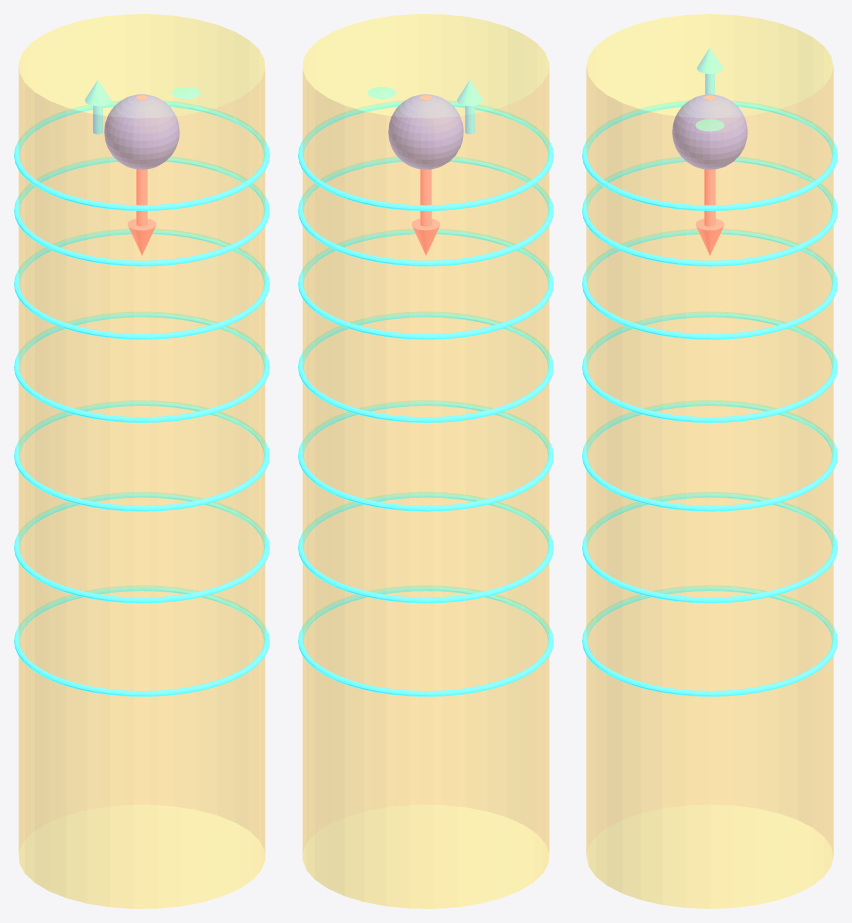
The model's file is bai4_chuyen_dong_trong_chat_luu.glb.
3 views of the same model, side by side, from view 1: azimuth 30°, elevation 25°; view 2: azimuth 150°, elevation 25°; view 3: azimuth 270°, elevation 25° (orthographic).
Parts seen in each view (by area): view 1: CotDauNhot, VienBiThep, Hình Xuyến.003, Hình Xuyến.004, Hình Xuyến.006, Hình Xuyến.005, Hình Xuyến.002, Hình Xuyến.001, Hình Xuyến, Vec_P_Bi, Vec_FA_Bi; view 2: CotDauNhot, VienBiThep, Hình Xuyến.003, Hình Xuyến.004, Hình Xuyến.006, Hình Xuyến.005, Hình Xuyến.002, Hình Xuyến.001, Hình Xuyến, Vec_P_Bi, Vec_FA_Bi; view 3: CotDauNhot, VienBiThep, Hình Xuyến.003, Hình Xuyến.004, Hình Xuyến.006, Hình Xuyến.005, Hình Xuyến.002, Hình Xuyến, Hình Xuyến.001, Vec_P_Bi, Vec_FA_Bi.
Boxes of the visible parts, box(x1,y1,x2,y2) form: CotDauNhot: box(18, 14, 265, 908); VienBiThep: box(104, 94, 179, 169); Hình Xuyến.003: box(14, 311, 269, 422); Hình Xuyến.004: box(14, 400, 269, 511); Hình Xuyến.006: box(14, 585, 269, 696); Hình Xuyến.005: box(14, 492, 269, 603); Hình Xuyến.002: box(14, 228, 269, 339); Hình Xuyến.001: box(14, 156, 269, 266); Hình Xuyến: box(14, 100, 269, 210); Vec_P_Bi: box(127, 95, 156, 255); Vec_FA_Bi: box(85, 80, 110, 134); CotDauNhot: box(302, 14, 549, 908); VienBiThep: box(388, 94, 463, 169); Hình Xuyến.003: box(298, 311, 553, 422); Hình Xuyến.004: box(298, 400, 553, 511); Hình Xuyến.006: box(298, 585, 553, 696); Hình Xuyến.005: box(298, 492, 553, 603); Hình Xuyến.002: box(298, 228, 553, 339); Hình Xuyến.001: box(298, 156, 553, 266); Hình Xuyến: box(298, 100, 553, 210); Vec_P_Bi: box(411, 95, 440, 255); Vec_FA_Bi: box(457, 80, 482, 134); CotDauNhot: box(586, 14, 833, 908); VienBiThep: box(672, 94, 747, 169); Hình Xuyến.003: box(582, 311, 837, 422); Hình Xuyến.004: box(582, 400, 837, 511); Hình Xuyến.006: box(582, 585, 837, 696); Hình Xuyến.005: box(582, 492, 837, 603); Hình Xuyến.002: box(582, 228, 837, 339); Hình Xuyến: box(582, 100, 837, 210); Hình Xuyến.001: box(582, 156, 837, 266); Vec_P_Bi: box(695, 95, 724, 255); Vec_FA_Bi: box(697, 48, 722, 94).
Size of the model in its own units: 1.76 by 6 by 1.76.
